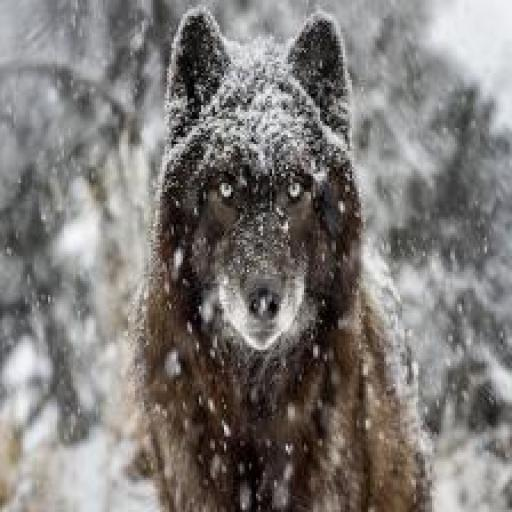wolf: (126, 0, 446, 512)
